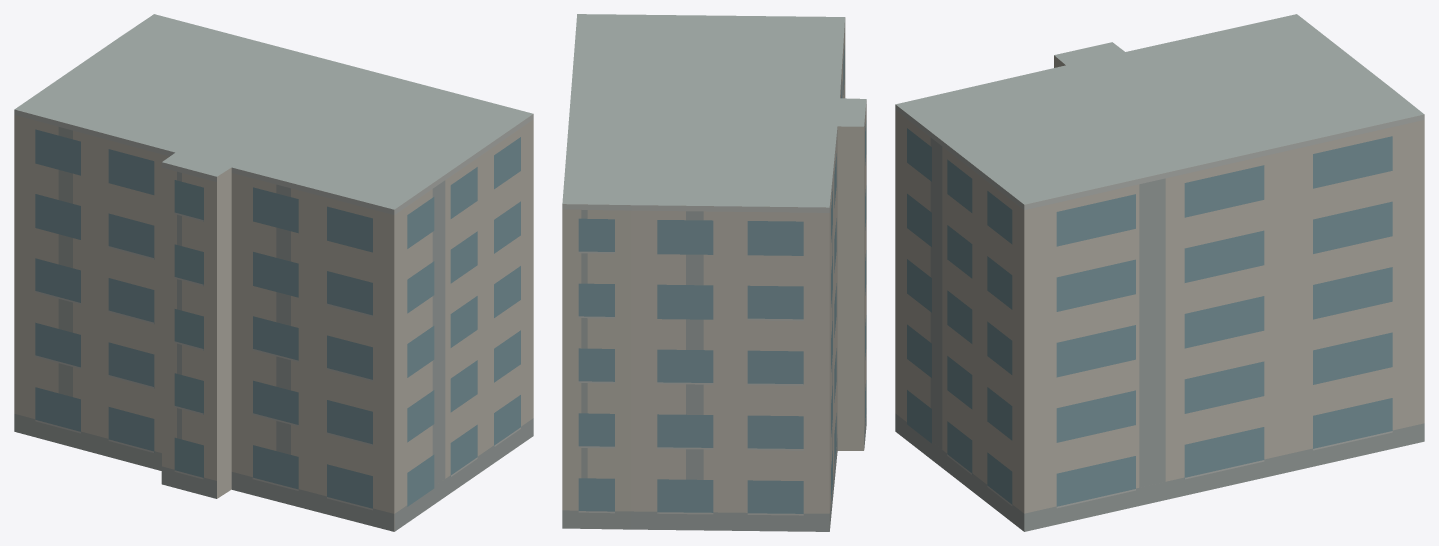
File: survey-upis-32701526.glb
3 renders of one model, left to right at view 1: azimuth 30°, elevation 25°; view 2: azimuth 150°, elevation 25°; view 3: azimuth 270°, elevation 25°, orthographic.
Visible parts, largest first — view 1: survey-upis-32701526.tmp; view 2: survey-upis-32701526.tmp; view 3: survey-upis-32701526.tmp.
Part boxes in pixels (left/top/right/bottom): survey-upis-32701526.tmp: left=14, top=14, right=533, bottom=531; survey-upis-32701526.tmp: left=562, top=14, right=866, bottom=531; survey-upis-32701526.tmp: left=895, top=14, right=1424, bottom=531.
Size of the model in its own units: 18.14 by 14.5 by 21.27.
